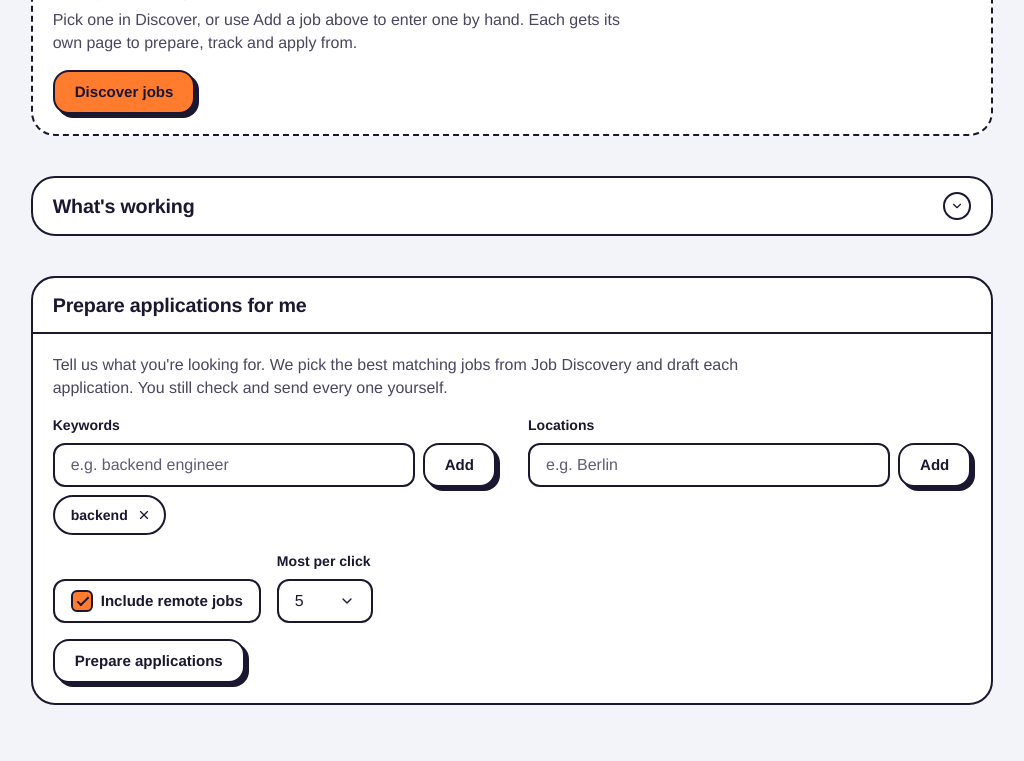
Test case: Prepare applications for me › asks for keywords when none are saved
(page scrolled)
Expected: the text "backend" is shown, [71,505,128,525]
Click the button "Prepare applications": x=149, y=661 [53,639,245,683]
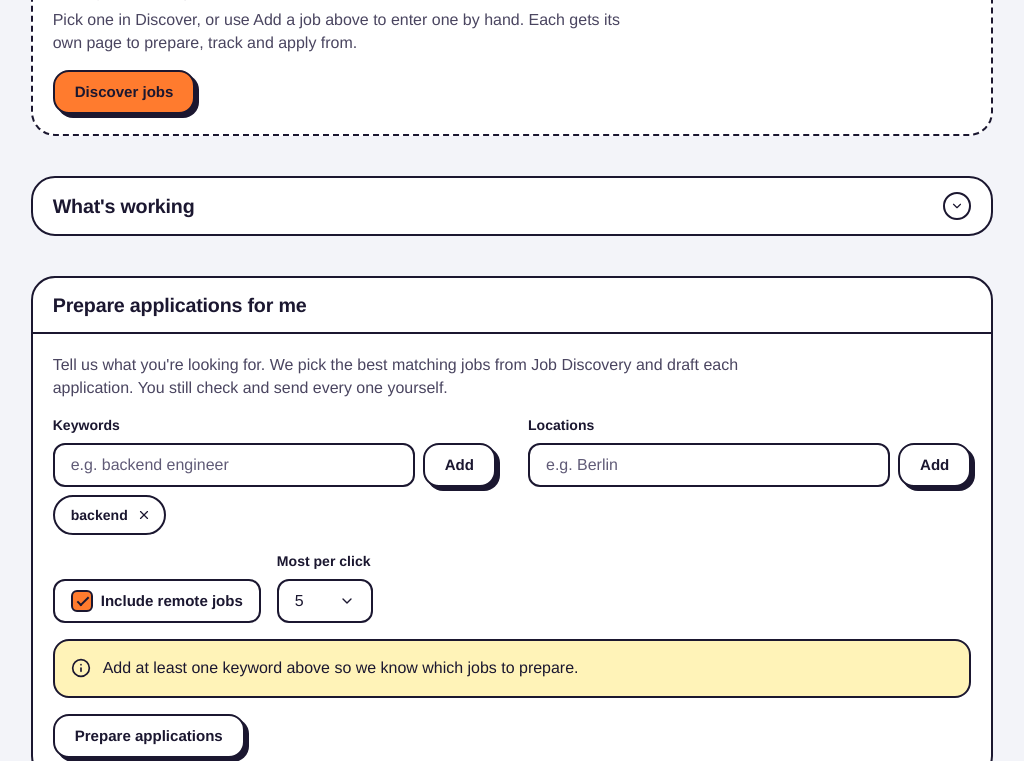
Result: the text "Add at least one keyword" is shown at [103,658,578,678]
